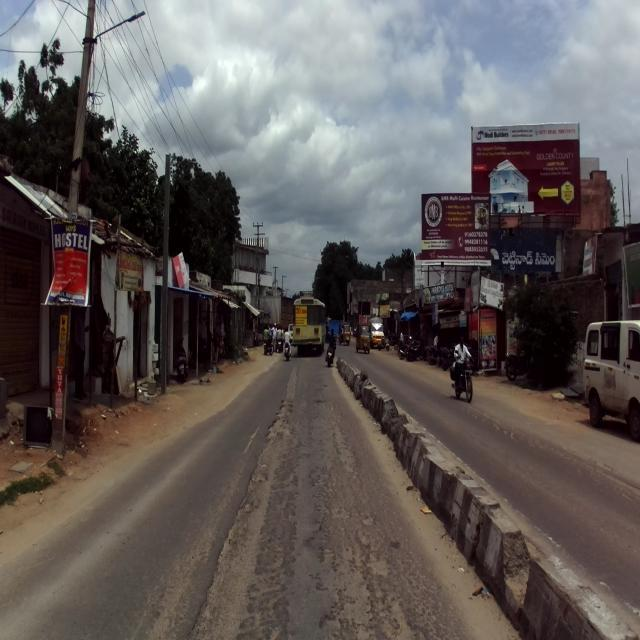pothole: (188, 567, 452, 640), (268, 386, 349, 520), (240, 526, 407, 567)
